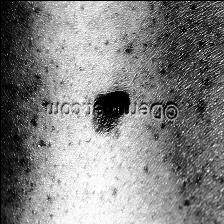Potentially Malignant Skin Tumors: (91, 118, 129, 146), (91, 80, 127, 98)
